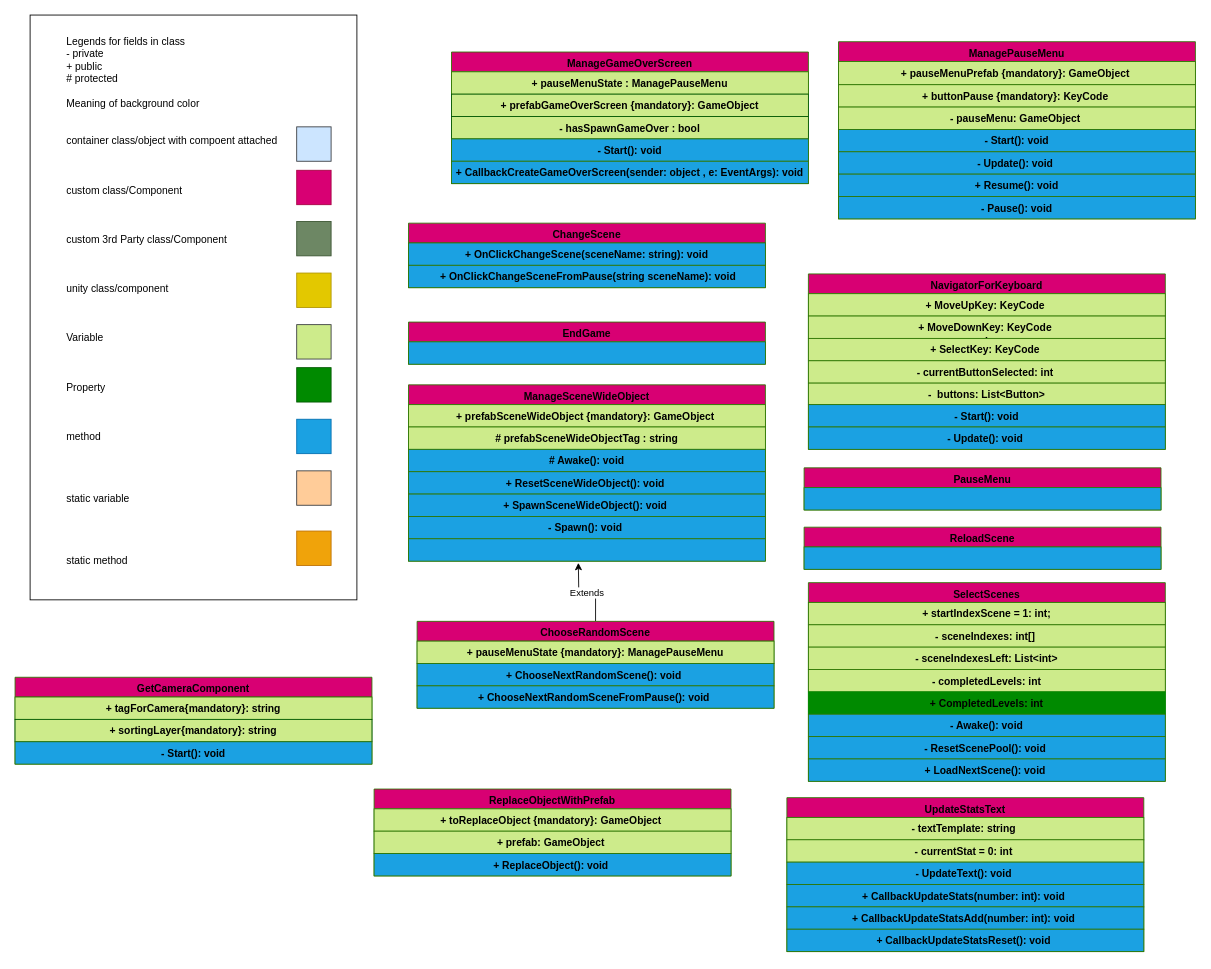
The diagram is 1211 pixels wide and 969 high, and some of its shapes have lost their labels. The shapes that lost their labels are listed below. From the top down, each one's centre as x and y in pixels, then its label:
(586,352): + OnClickEndGame(): void
(982,498): + CallbackResumeButton(): void
(586,549): - DeleteSceneWideObject(): void
(982,557): + CallbackResetScene(): void
